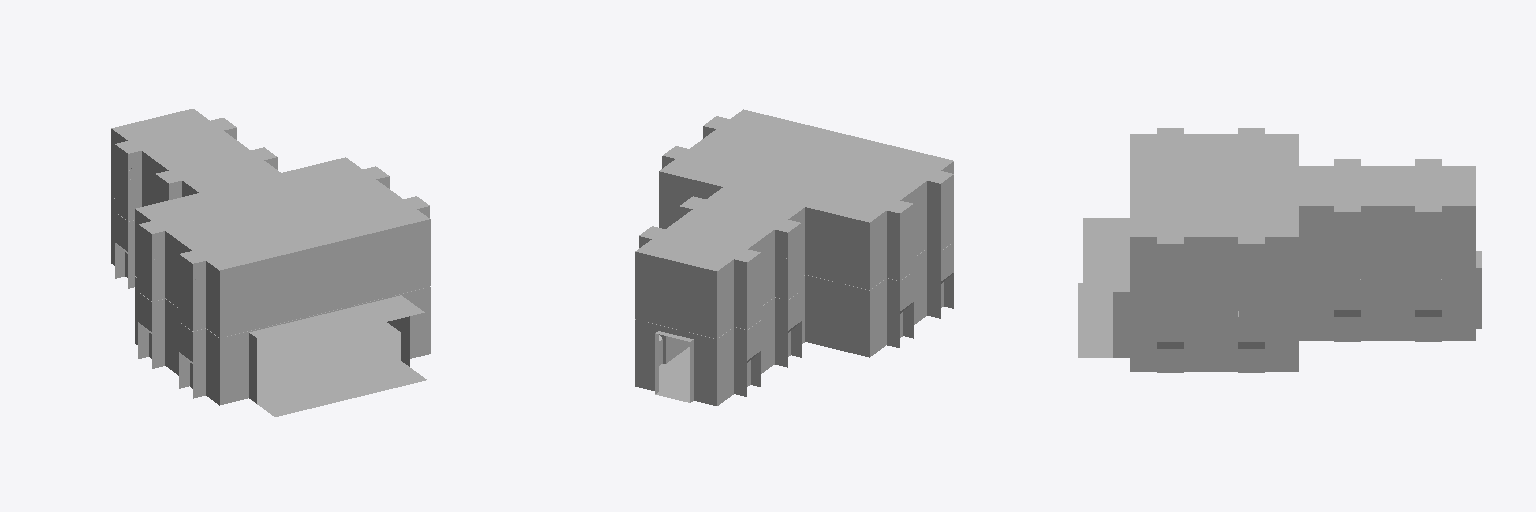
The model's file is Room1_EndRoom_LCZ.obj.
3 views of the same model, side by side, from view 1: azimuth 30°, elevation 25°; view 2: azimuth 150°, elevation 25°; view 3: azimuth 270°, elevation 25° (orthographic).
Parts seen in each view (by area): view 1: Scene_Root; view 2: Scene_Root; view 3: Scene_Root.
Part boxes in pixels (left/top/right/bottom): Scene_Root: left=111, top=109, right=430, bottom=416; Scene_Root: left=635, top=109, right=953, bottom=405; Scene_Root: left=1078, top=128, right=1481, bottom=372.
Size of the model in its own units: 13.63 by 7.04 by 19.14.